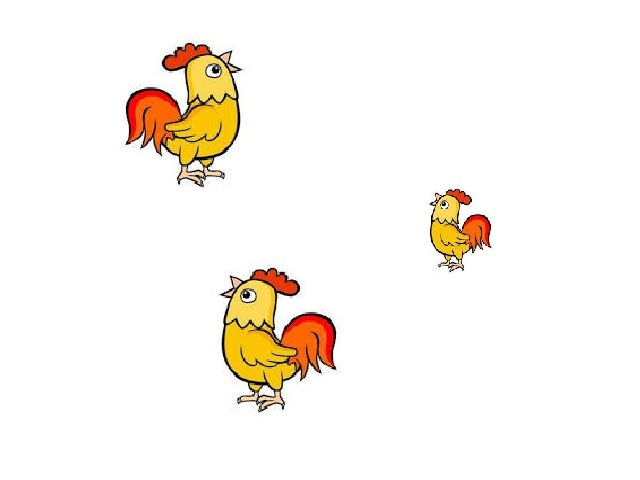crown: (163, 42, 209, 67), (257, 267, 298, 295), (448, 188, 473, 205)
eyes: (239, 286, 257, 302), (207, 65, 222, 82), (441, 200, 451, 209)
feet: (233, 389, 289, 413), (175, 164, 225, 188), (438, 259, 469, 274)
tail: (282, 315, 340, 379), (124, 87, 182, 148), (466, 216, 487, 243)
